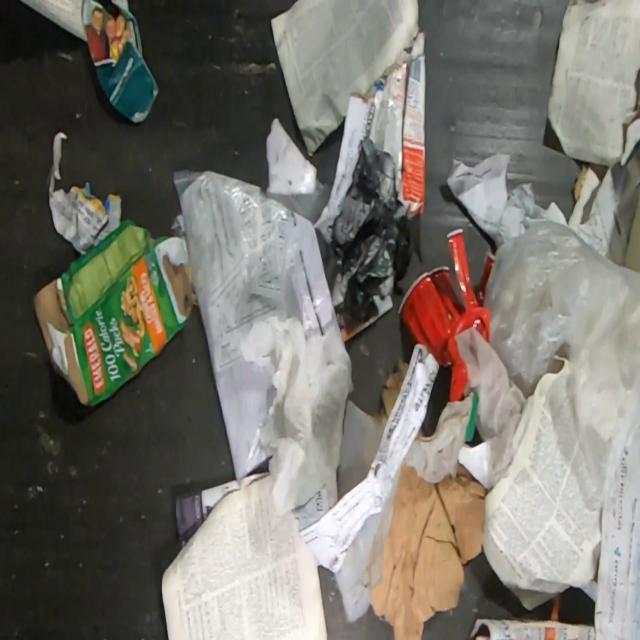cardboard: (28, 221, 194, 409), (568, 71, 640, 266), (363, 20, 426, 219)
rigid_plastic: (395, 227, 490, 402)
soft_plastic: (171, 167, 340, 480), (483, 222, 640, 497), (330, 134, 425, 324)
